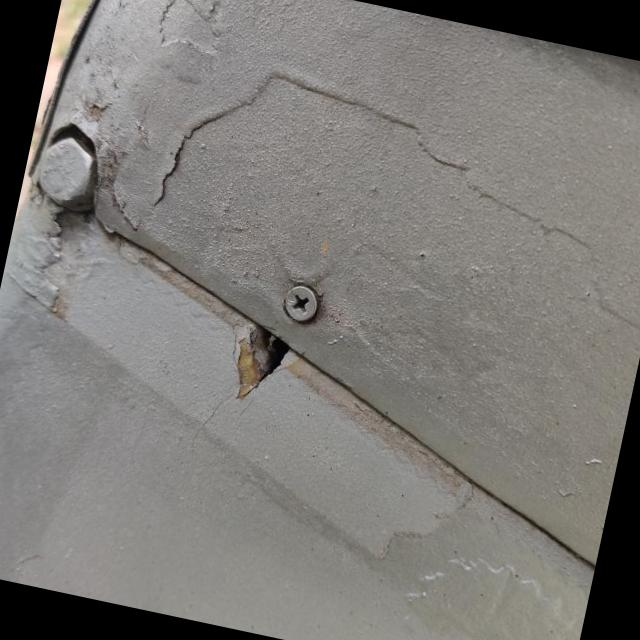Crack: (233, 325, 287, 398)
